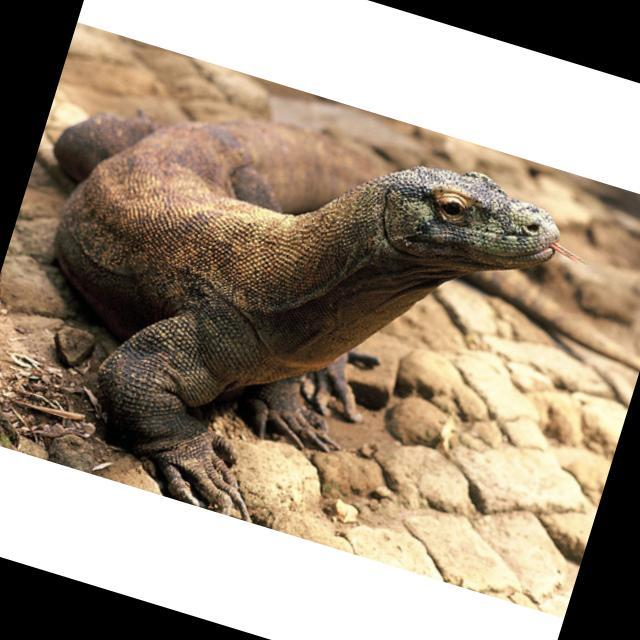KomodoDragon: (0, 48, 591, 589)
